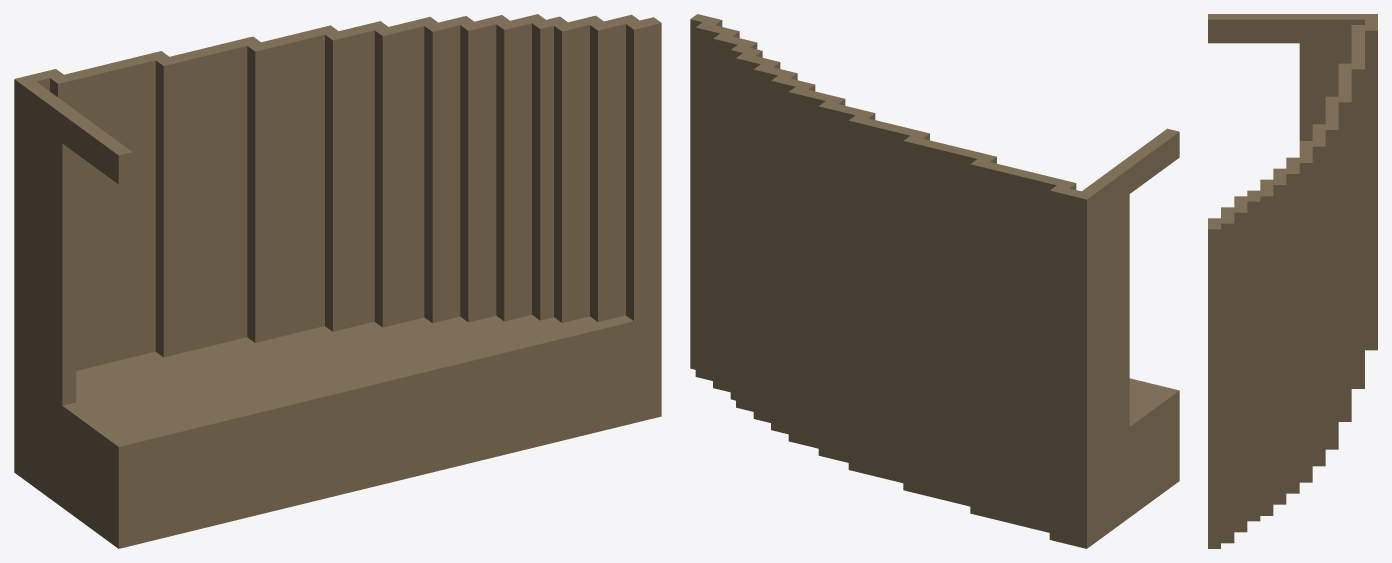
File: CornerCorridor-1.obj
3 views of the same model, side by side, from view 1: azimuth 30°, elevation 25°; view 2: azimuth 150°, elevation 25°; view 3: azimuth 270°, elevation 25° (orthographic). The views are drawn at different scales.
Bounding box in the file's own units: 3.9 × 2.7 × 1.3.
Materials: 1 (1 with a texture image).
